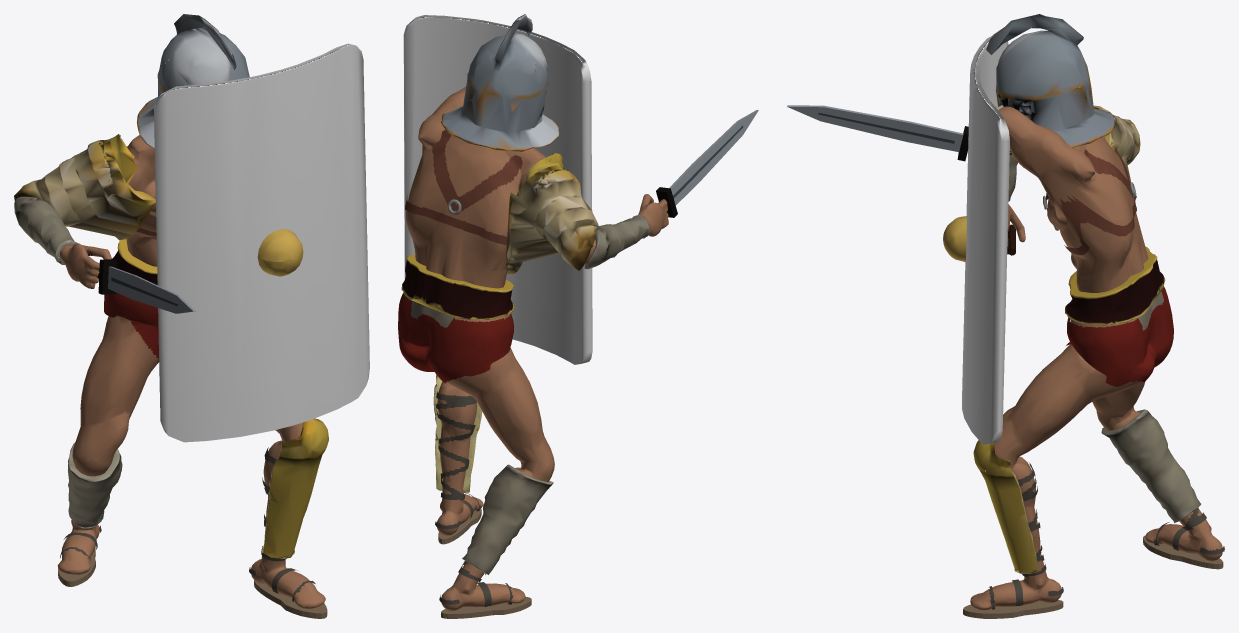
The model's file is glad_murmillo.glb.
3 views of the same model, side by side, from view 1: azimuth 30°, elevation 25°; view 2: azimuth 150°, elevation 25°; view 3: azimuth 270°, elevation 25° (orthographic). The views are drawn at different scales.
Visible parts, largest first — view 1: murmillo; view 2: murmillo; view 3: murmillo.
Part boxes in pixels (x1=…): murmillo: x1=14, y1=14, x2=369, y2=618; murmillo: x1=398, y1=14, x2=758, y2=618; murmillo: x1=787, y1=14, x2=1224, y2=618.
Size of the model in its own units: 0.572 by 1.1 by 0.78.
